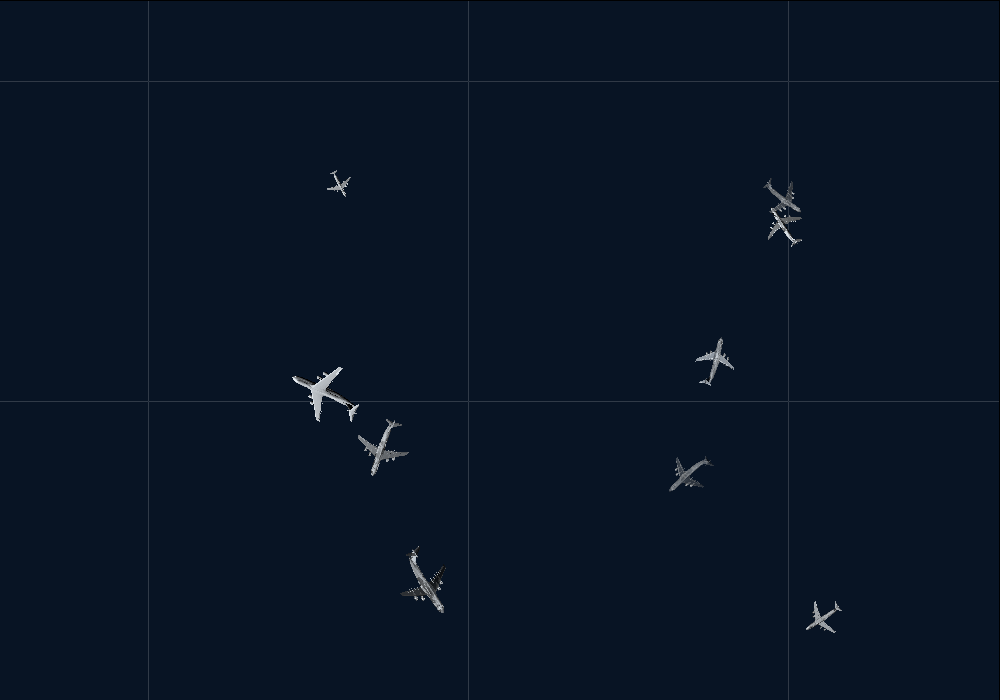plane: (277, 348, 373, 441), (380, 534, 473, 629), (346, 410, 420, 486), (654, 440, 725, 510), (752, 165, 815, 228), (754, 195, 814, 256), (685, 331, 742, 391), (795, 590, 851, 645), (320, 164, 358, 203)
